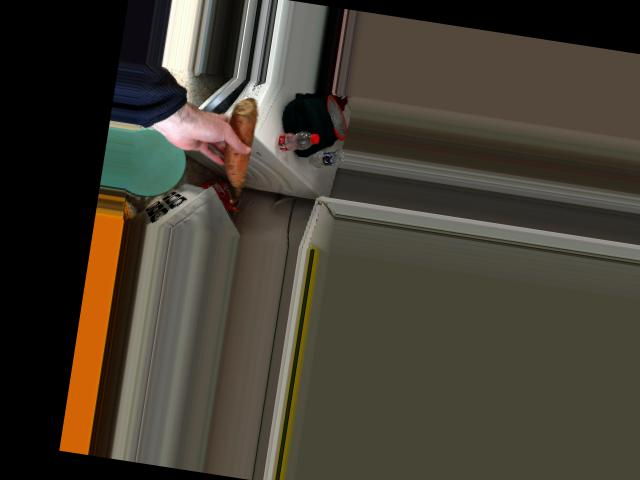sweet_potato: (219, 104, 257, 192)
